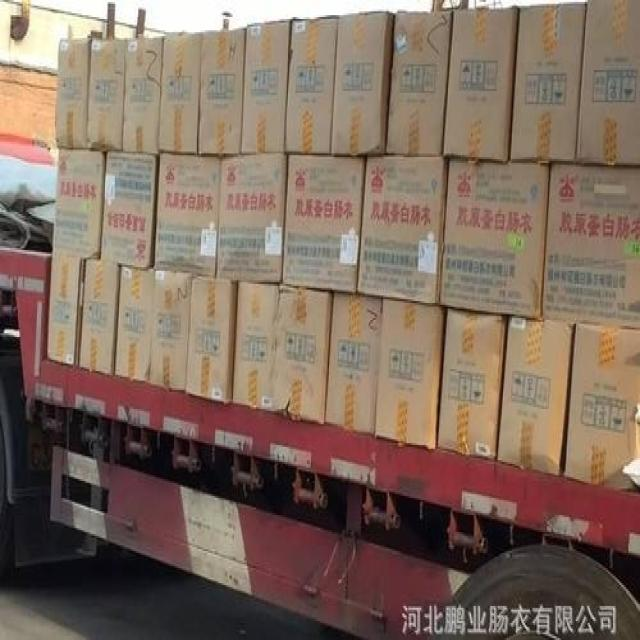box: (440, 161, 550, 320), (541, 165, 639, 328), (357, 155, 447, 307), (509, 2, 588, 161), (566, 322, 640, 490), (497, 316, 573, 475), (444, 6, 518, 161), (283, 153, 364, 293), (436, 307, 508, 462), (575, 0, 640, 169), (375, 297, 444, 451), (215, 151, 287, 282), (387, 11, 452, 155), (330, 11, 394, 155), (270, 286, 332, 426), (326, 292, 383, 436), (155, 153, 219, 275), (285, 15, 338, 153), (241, 17, 291, 155), (184, 278, 238, 403), (100, 153, 157, 269), (232, 284, 282, 409), (198, 28, 246, 155), (51, 148, 105, 258), (148, 271, 193, 392), (157, 32, 202, 153), (122, 34, 165, 155), (79, 259, 122, 375), (113, 265, 154, 384), (46, 252, 84, 365), (90, 36, 127, 151), (56, 36, 91, 150)
